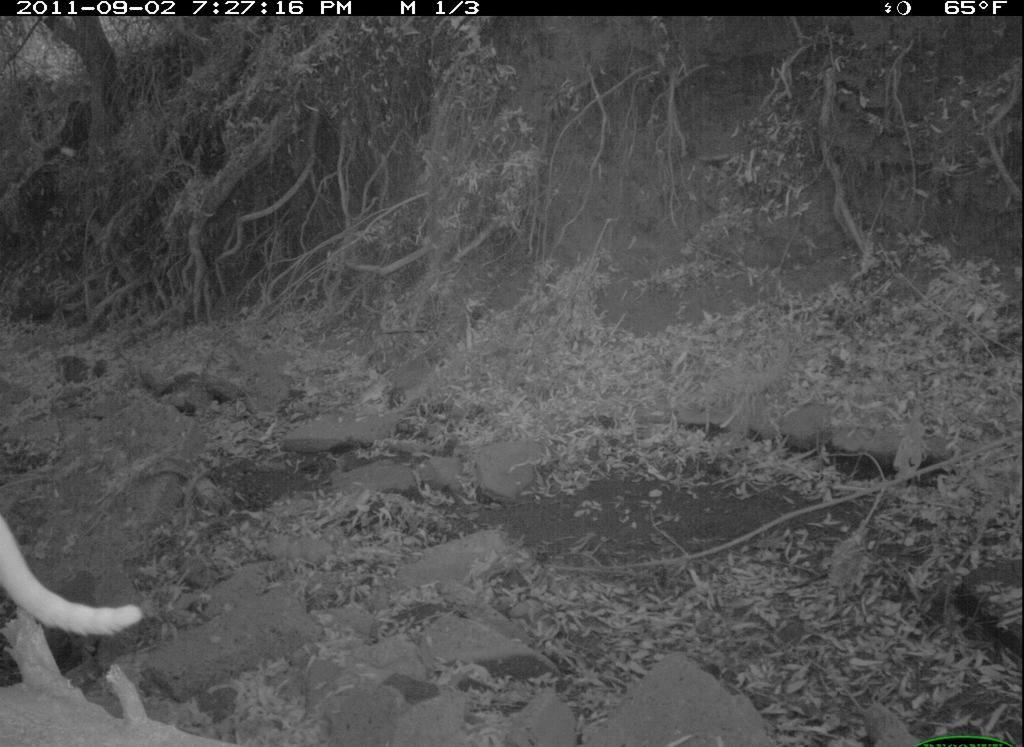cat: (1, 506, 148, 644)
